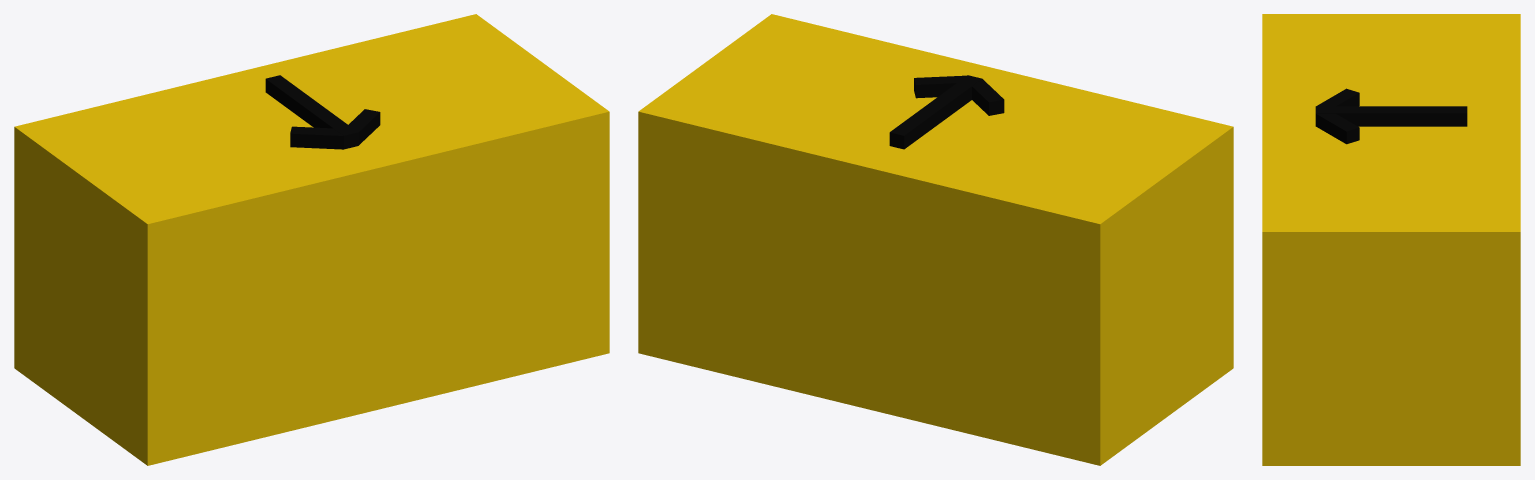
The model's file is yellow.fbx.
3 views of the same model, side by side, from view 1: azimuth 30°, elevation 25°; view 2: azimuth 150°, elevation 25°; view 3: azimuth 270°, elevation 25° (orthographic). The views are drawn at different scales.
Parts seen in each view (by area): view 1: Cube, Cube.001; view 2: Cube, Cube.001; view 3: Cube, Cube.001.
Boxes of the visible parts, x1,y1,x2,y2 form: Cube: (14, 14, 609, 465); Cube.001: (265, 75, 380, 149); Cube: (638, 14, 1233, 465); Cube.001: (889, 75, 1004, 149); Cube: (1262, 14, 1520, 465); Cube.001: (1315, 88, 1467, 144).
Size of the model in its own units: 400 by 211 by 200.
